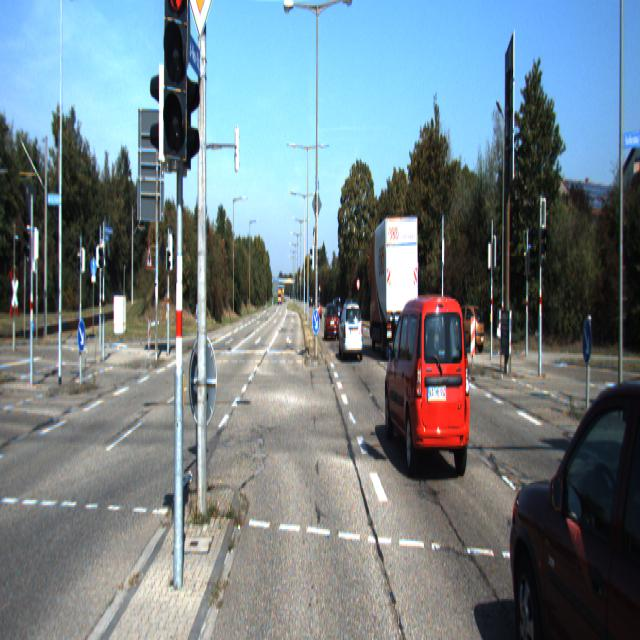Car: (510, 346, 640, 638), (384, 287, 472, 490), (368, 212, 419, 362), (446, 302, 486, 353), (338, 301, 364, 364), (325, 302, 339, 341)
